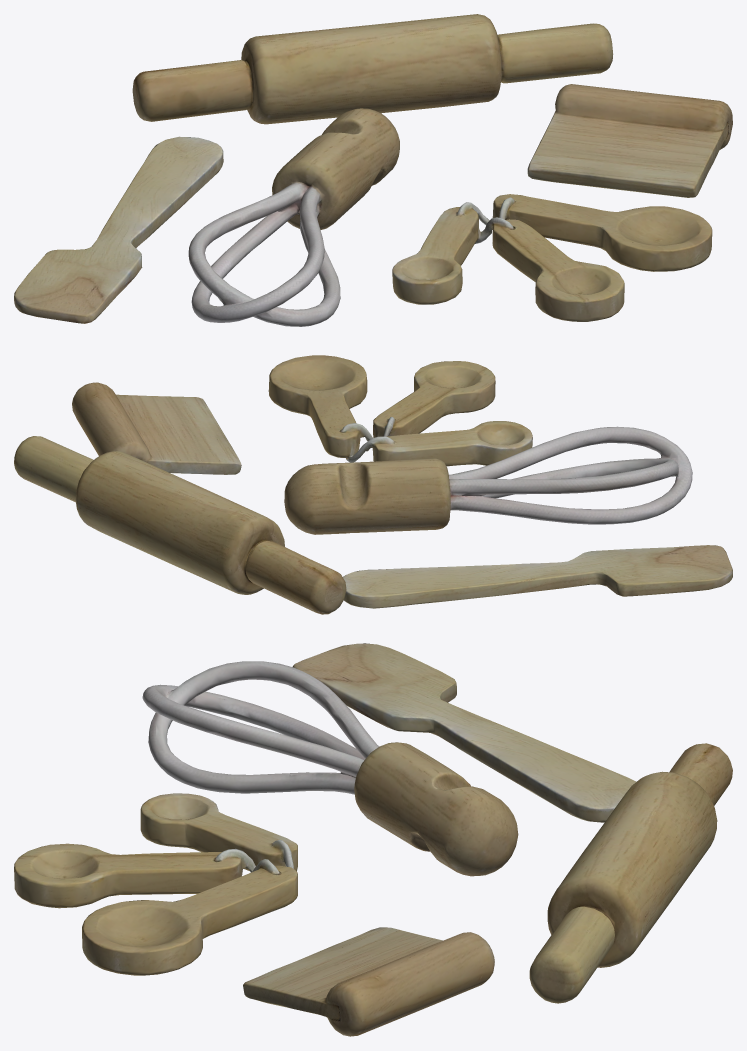
File: BAKING_UTENSILS.glb
The picture shows the model from 3 angles, top to bottom: view 1: azimuth 30°, elevation 25°; view 2: azimuth 150°, elevation 25°; view 3: azimuth 270°, elevation 25°; orthographic projection. The views are drawn at different scales.
Parts seen in each view (by area): view 1: BAKING_UTENSILS; view 2: BAKING_UTENSILS; view 3: BAKING_UTENSILS.
Boxes of the visible parts, x1,y1,x2,y2 form: BAKING_UTENSILS: (14,14,732,326); BAKING_UTENSILS: (14,355,732,614); BAKING_UTENSILS: (14,643,732,1036).
Size of the model in its own units: 0.326 by 0.0356 by 0.2543.
Materials: 1 (1 with a texture image).
